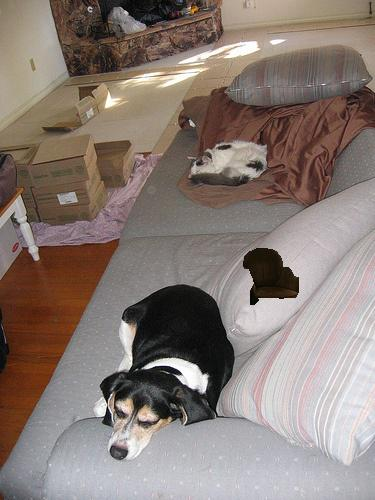tampered: (244, 249, 299, 305)
